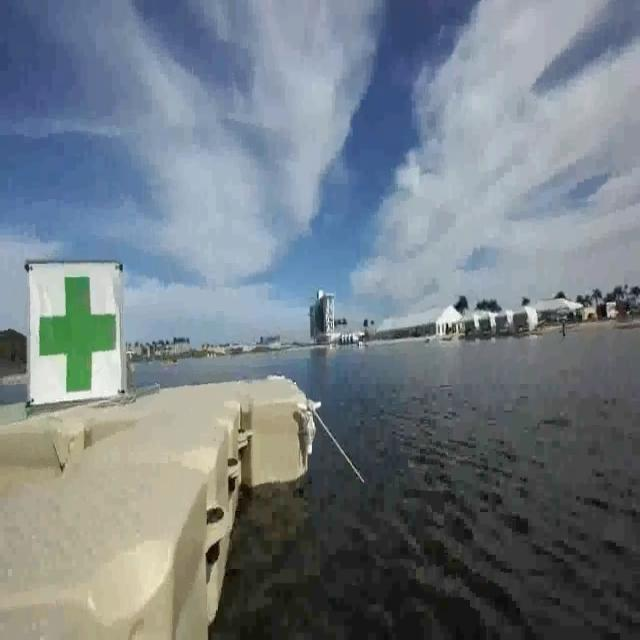blue-cross: (34, 264, 124, 393)
